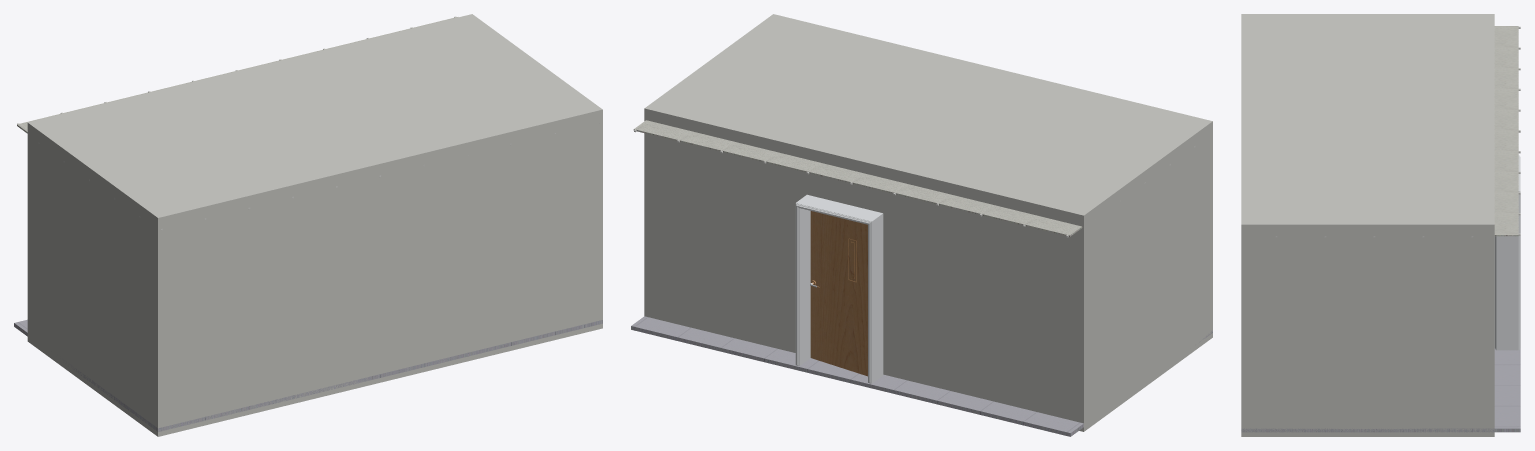
Rendered from infinigen-ed-exam-bay.glb.
3 views of the same model, side by side, from view 1: azimuth 30°, elevation 25°; view 2: azimuth 150°, elevation 25°; view 3: azimuth 270°, elevation 25° (orthographic). The views are drawn at different scales.
Visible parts, largest first — view 1: bedroom_0/0.exterior, openclinxr_floor_field, openclinxr_ceiling_tiles; view 2: bedroom_0/0.exterior, bedroom_0/0.door_leaf, openclinxr_floor_field, bedroom_0/0.door_casing, openclinxr_ceiling_tiles; view 3: bedroom_0/0.exterior, openclinxr_ceiling_tiles, openclinxr_floor_field, bedroom_0/0.door_casing.
Boxes of the visible parts, <box> form: bedroom_0/0.exterior: <box>27,14,602,436</box>; openclinxr_floor_field: <box>14,319,602,431</box>; openclinxr_ceiling_tiles: <box>17,17,458,133</box>; bedroom_0/0.exterior: <box>644,14,1212,431</box>; bedroom_0/0.door_leaf: <box>810,211,867,376</box>; openclinxr_floor_field: <box>631,316,1212,436</box>; bedroom_0/0.door_casing: <box>795,194,883,383</box>; openclinxr_ceiling_tiles: <box>633,120,1082,236</box>; bedroom_0/0.exterior: <box>1241,14,1494,436</box>; openclinxr_ceiling_tiles: <box>1494,26,1518,236</box>; openclinxr_floor_field: <box>1241,348,1520,432</box>; bedroom_0/0.door_casing: <box>1494,155,1520,350</box>.
Size of the model in its own units: 6.1 by 2.87 by 3.42.
Materials: 17 (10 with a texture image).
